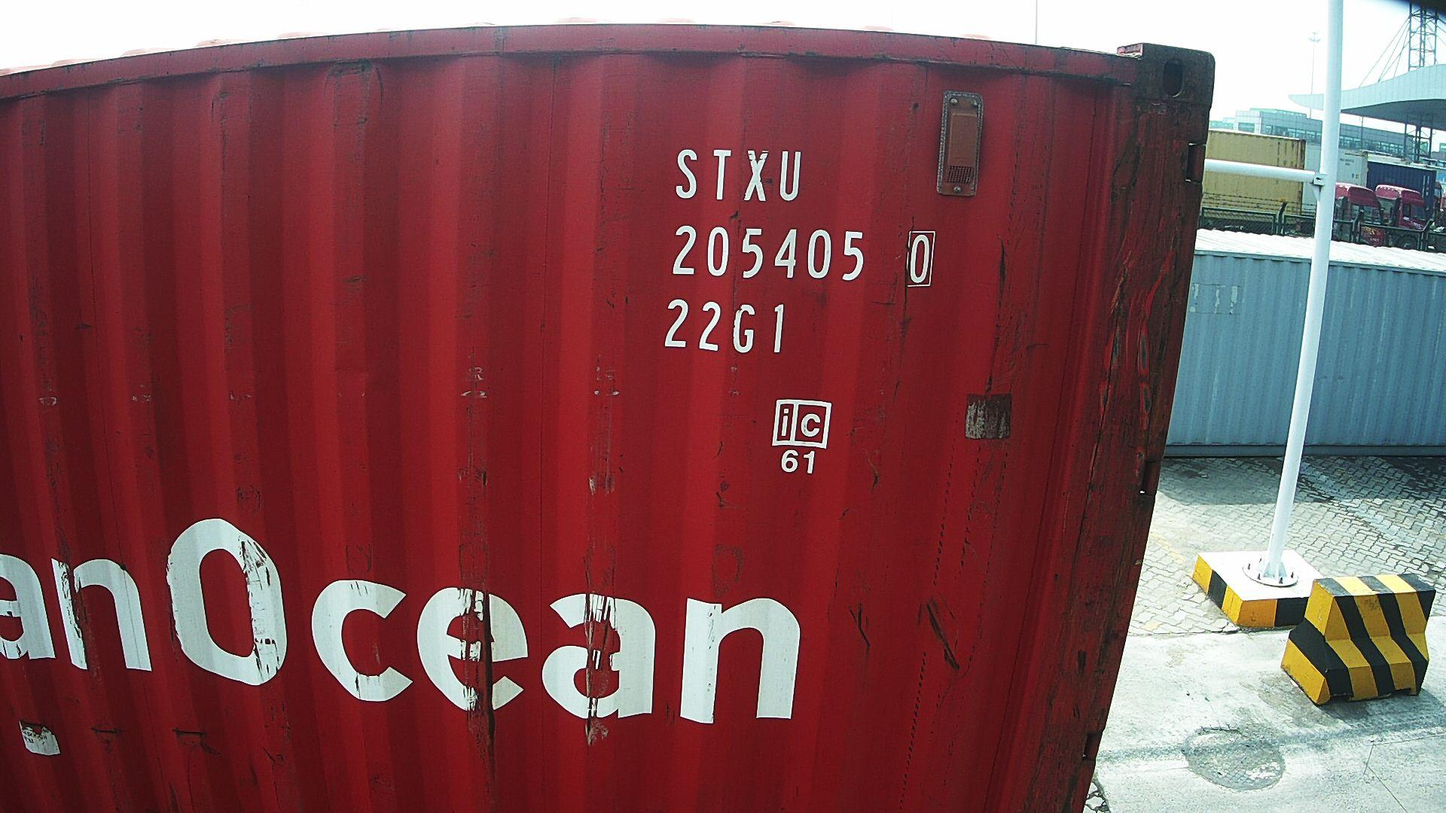container-numbers: (667, 223, 940, 290), (667, 145, 807, 207), (660, 298, 793, 359)
